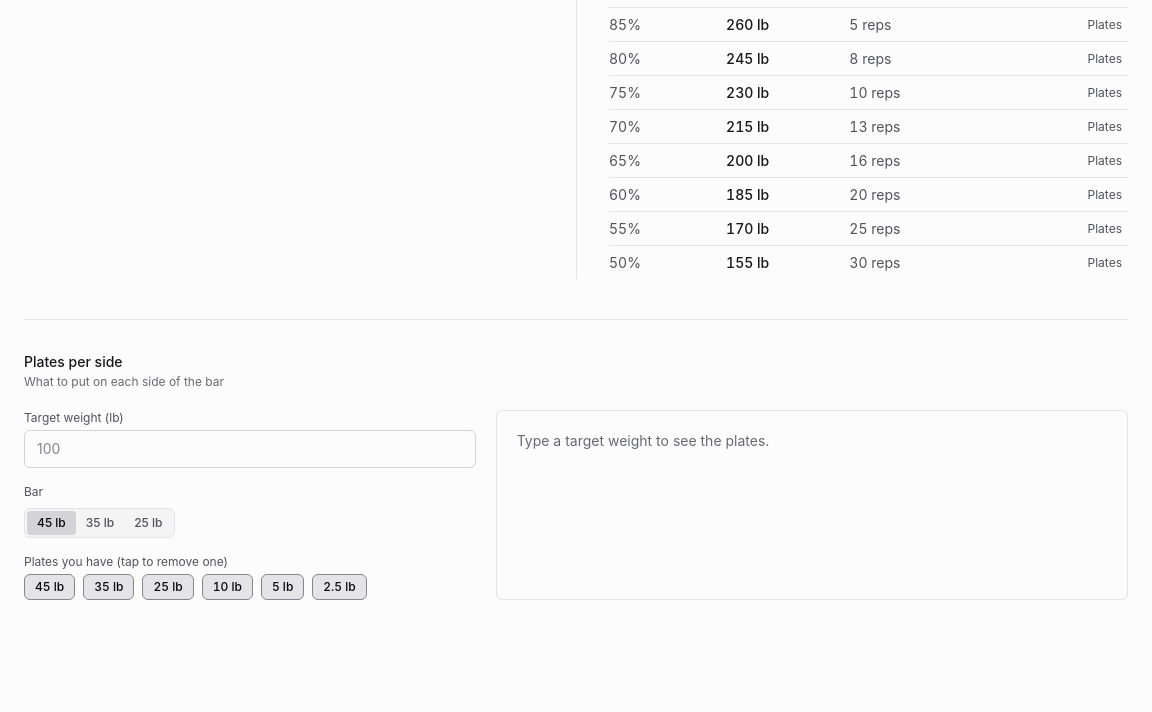
Test: CalculatorsView › works in pounds with pound bars, plates and 5 lb steps
(page scrolled)
Type "225" into the field with id "calc-target" at x=250, y=449, box [24,430,476,468]
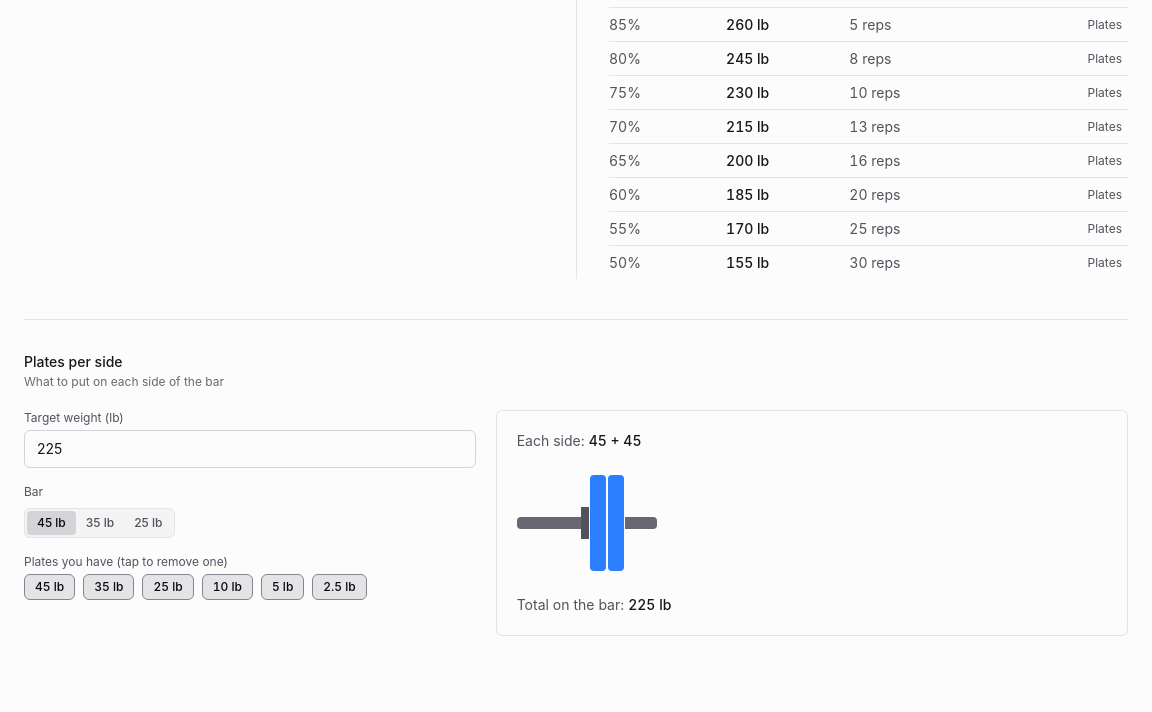
Check: the text "Each side: 45 + 45" is shown, box [517,432,642,449]
Check: the text "Total on the bar: 225 lb" is shown, box [517,596,671,613]
